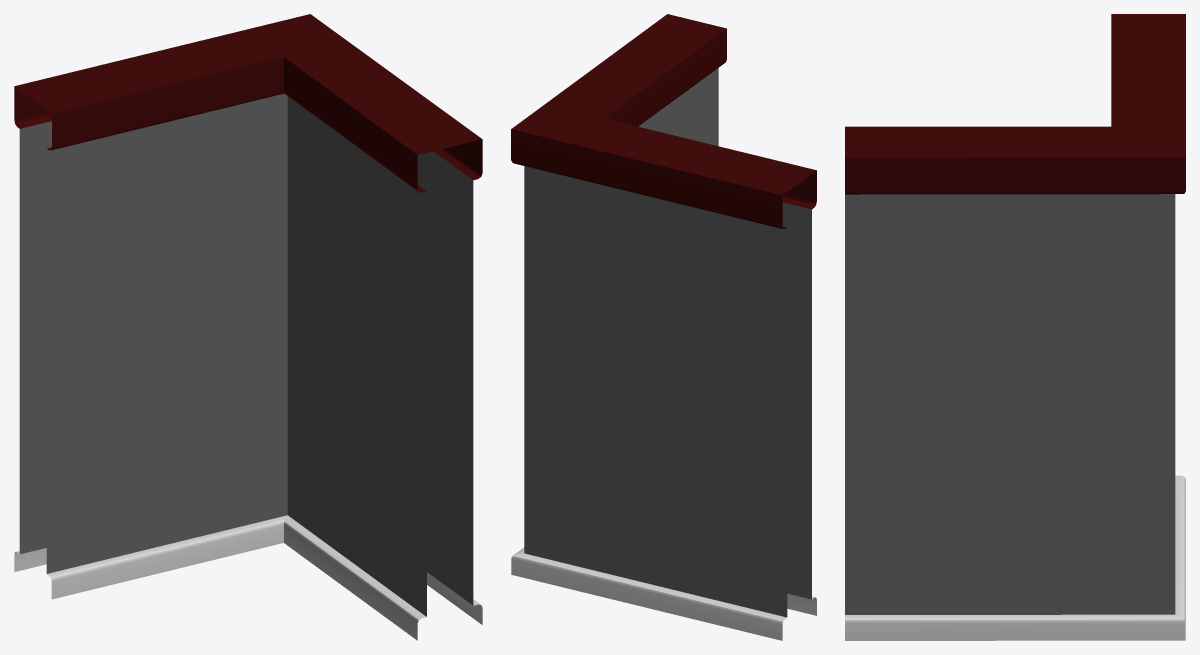
File: SM_MurCoin.fbx
3 views of the same model, side by side, from view 1: azimuth 30°, elevation 25°; view 2: azimuth 150°, elevation 25°; view 3: azimuth 270°, elevation 25° (orthographic). The views are drawn at different scales.
Visible parts, largest first — view 1: Coin5; view 2: Coin5; view 3: Coin5.
Part boxes in pixels (x1=…): Coin5: x1=14, y1=14, x2=482, y2=640; Coin5: x1=511, y1=14, x2=816, y2=640; Coin5: x1=845, y1=14, x2=1185, y2=640.
Size of the model in its own units: 128 by 200 by 128.
